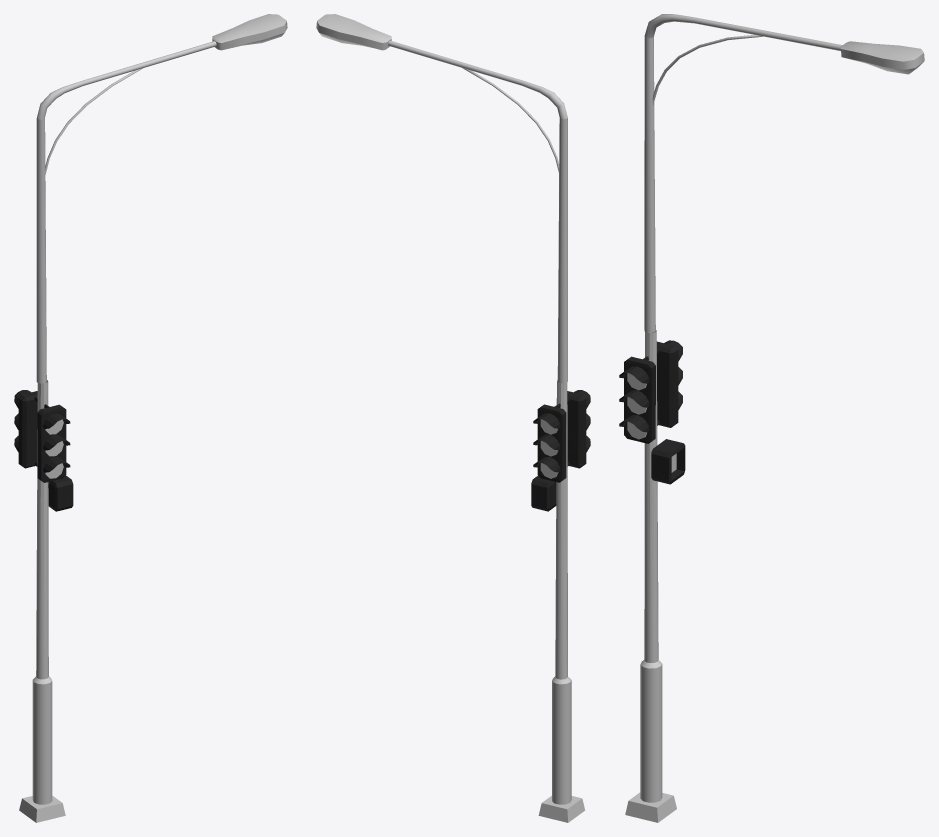
The model's file is D_tlight_2x_l.FBX.
The picture shows the model from 3 angles, left to right: view 1: azimuth 30°, elevation 25°; view 2: azimuth 150°, elevation 25°; view 3: azimuth 330°, elevation 25°; orthographic projection. The views are drawn at different scales.
Visible parts, largest first — view 1: Object146; view 2: Object146; view 3: Object146.
Part boxes in pixels (x1,y1,x2,y2): Object146: (14, 14, 287, 822); Object146: (316, 14, 590, 822); Object146: (619, 14, 924, 822).
Bounding box in the file's own units: 8.97 × 2.44 × 24.71.
